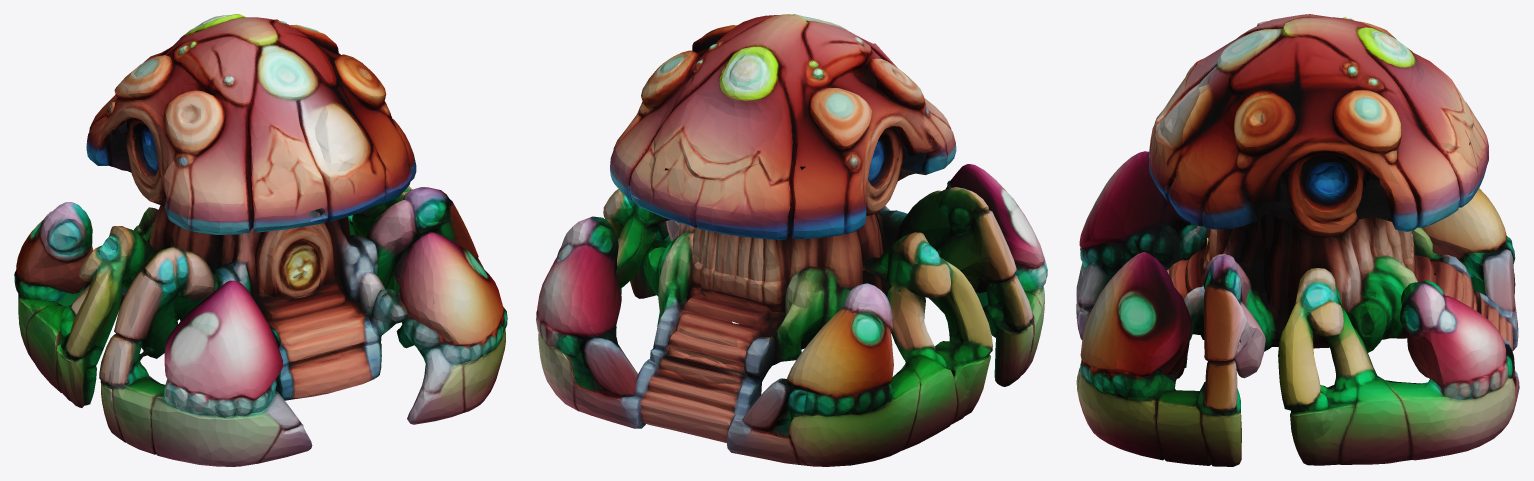
File: crab_3.glb
3 views of the same model, side by side, from view 1: azimuth 30°, elevation 25°; view 2: azimuth 150°, elevation 25°; view 3: azimuth 270°, elevation 25° (orthographic). The views are drawn at different scales.
Visible parts, largest first — view 1: world; view 2: world; view 3: world.
Boxes of the visible parts, x1,y1,x2,y2 form: world: [14, 14, 507, 466]; world: [536, 14, 1047, 466]; world: [1076, 14, 1519, 466].
Bounding box in the file's own units: 0.8902 × 0.7417 × 0.8404.
Materials: 1 (1 with a texture image).
